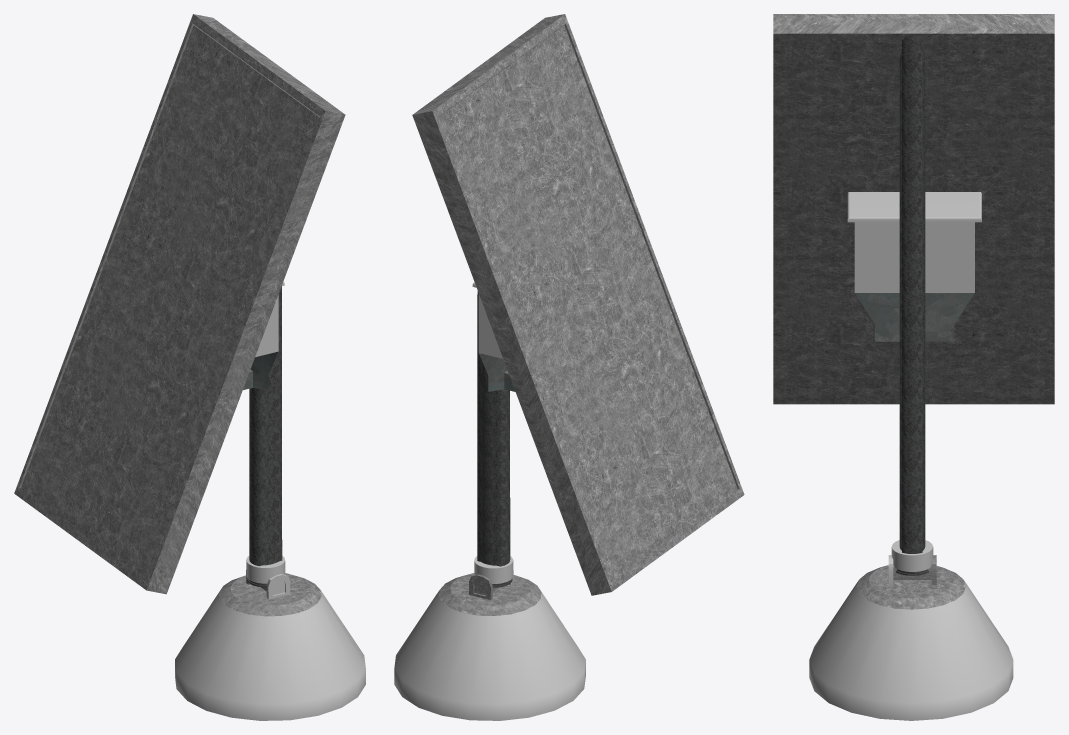
The model's file is SolarPanel1.fbx.
3 renders of one model, left to right at view 1: azimuth 30°, elevation 25°; view 2: azimuth 150°, elevation 25°; view 3: azimuth 270°, elevation 25°, orthographic. The views are drawn at different scales.
Parts seen in each view (by area): view 1: polySurface272, polySurface271, polySurface141, polySurface134, polySurface142, polySurface138, polySurface139, polySurface132; view 2: polySurface272, polySurface271, polySurface141, polySurface134, polySurface142, polySurface138, polySurface139, polySurface132; view 3: polySurface271, polySurface141, polySurface134, polySurface139, polySurface140, polySurface138, polySurface142, polySurface132.
Boxes of the visible parts, x1,y1,x2,y2 form: polySurface272: (21, 25, 319, 580); polySurface271: (14, 14, 345, 594); polySurface141: (175, 591, 365, 720); polySurface134: (249, 286, 282, 566); polySurface142: (219, 573, 321, 616); polySurface138: (243, 351, 278, 390); polySurface139: (255, 295, 278, 356); polySurface132: (246, 556, 285, 583); polySurface272: (437, 25, 737, 582); polySurface271: (412, 14, 744, 595); polySurface141: (394, 590, 585, 720); polySurface134: (477, 291, 510, 566); polySurface142: (438, 573, 541, 615); polySurface138: (479, 353, 515, 391); polySurface139: (478, 293, 502, 358); polySurface132: (474, 556, 513, 583); polySurface271: (773, 14, 1054, 404); polySurface141: (809, 580, 1013, 720); polySurface134: (899, 34, 925, 553); polySurface139: (854, 222, 974, 292); polySurface140: (847, 192, 981, 222); polySurface138: (855, 293, 974, 341); polySurface142: (856, 565, 965, 609); polySurface132: (891, 540, 933, 571).
Bounding box in the file's own units: 15.1 × 32.87 × 12.74.
